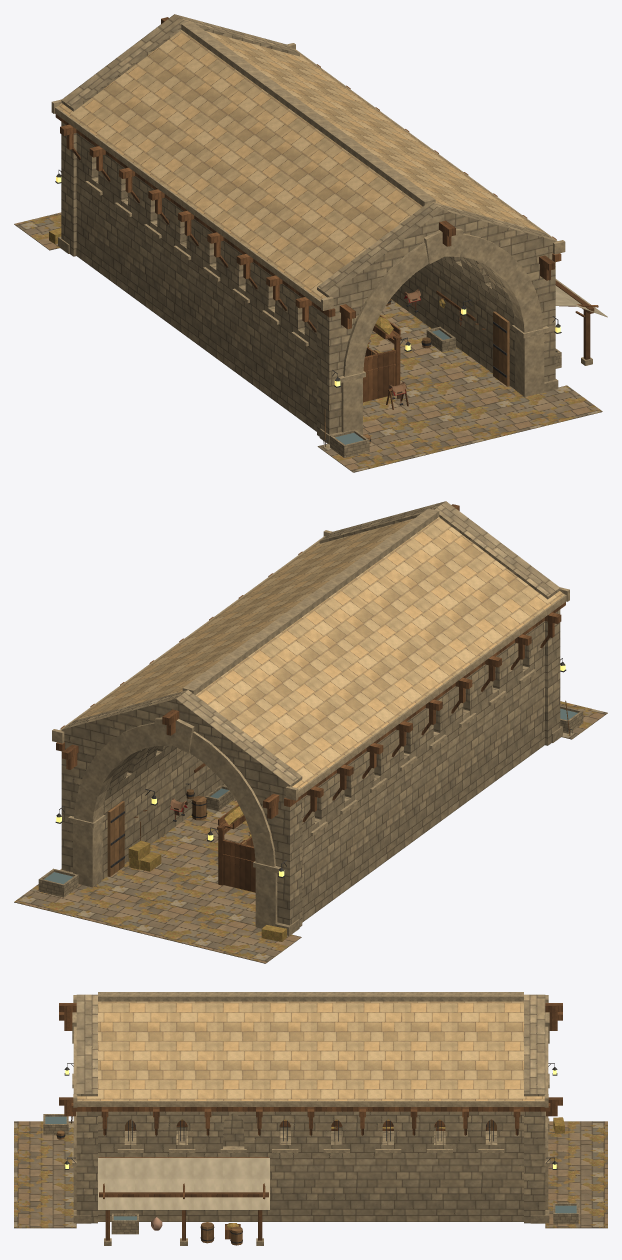
File: stable-v6-lite.glb
3 views of the same model, one above another, from view 1: azimuth 30°, elevation 25°; view 2: azimuth 150°, elevation 25°; view 3: azimuth 270°, elevation 25° (orthographic). The views are drawn at different scales.
Parts seen in each view (by area): view 1: mesh_stone, mesh_roof, mesh_stone_block, mesh_floor, mesh_wood, mesh_wood_light; view 2: mesh_stone, mesh_roof, mesh_stone_block, mesh_floor, mesh_wood, mesh_wood_light, mesh_straw; view 3: mesh_stone, mesh_roof, mesh_floor, mesh_stone_block, mesh_canvas, mesh_wood, mesh_iron, mesh_wood_light, mesh_water.
Part boxes in pixels (x1,y1,x2,y2): mesh_stone: (61,14,561,457); mesh_roof: (57,30,541,300); mesh_stone_block: (51,21,592,444); mesh_floor: (14,212,602,472); mesh_wood: (55,17,598,409); mesh_wood_light: (324,298,509,446); mesh_stone: (38,501,583,926); mesh_roof: (75,517,564,789); mesh_stone_block: (52,508,569,935); mesh_floor: (14,701,607,963); mesh_wood: (56,504,565,892); mesh_wood_light: (107,700,570,876); mesh_straw: (128,806,286,941); mesh_stone: (43,994,578,1234); mesh_roof: (77,1001,544,1100); mesh_floor: (14,1121,607,1228); mesh_stone_block: (72,992,549,1245); mesh_canvas: (98,1158,269,1210); mesh_wood: (59,1003,562,1240); mesh_iron: (56,1063,557,1243); mesh_wood_light: (57,1116,496,1245); mesh_water: (45,1116,576,1220).
Size of what is drawn, in the model's own units: 15.85 by 10.23 by 30.4.
17 materials, 12 textured.
